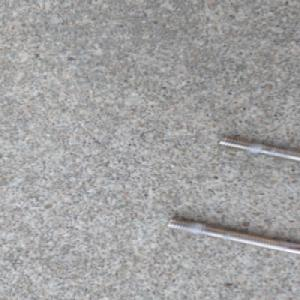ClampPart: (163, 135, 300, 255)
